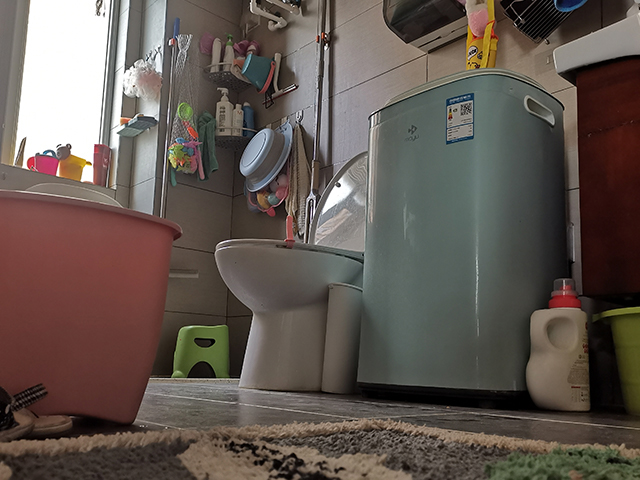carpet: (1, 414, 635, 480)
closestool: (211, 150, 369, 395)
stool: (170, 323, 234, 380)
